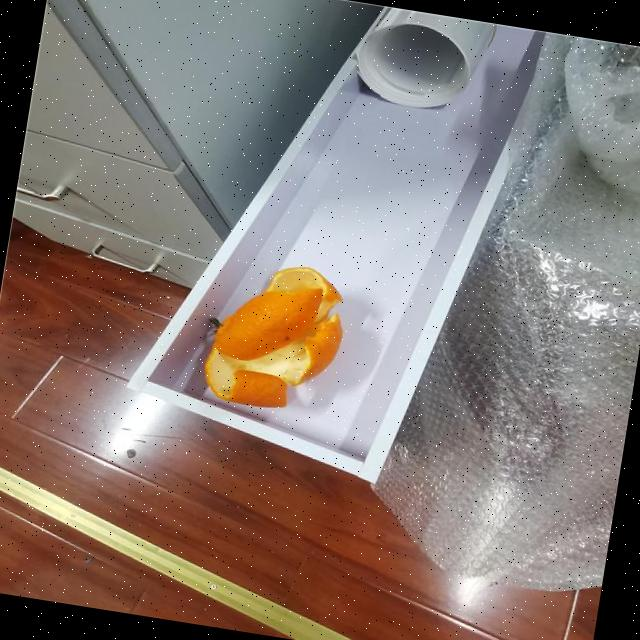orange-peel: (196, 252, 353, 419)
